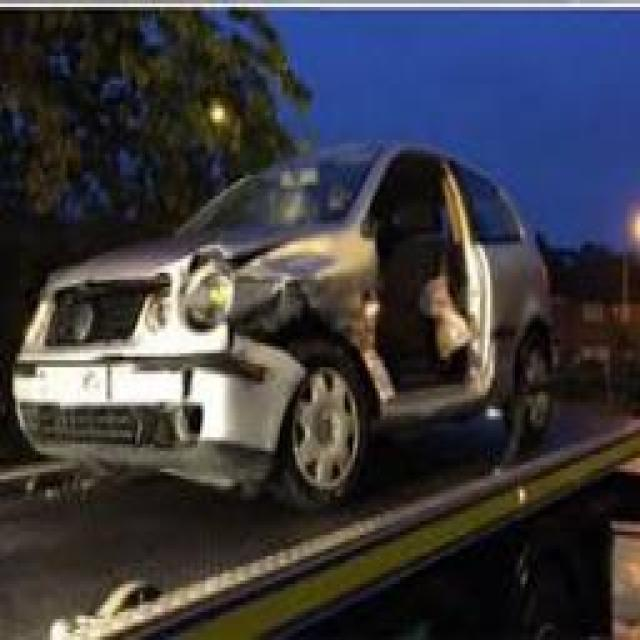Bonnet: (45, 224, 339, 299)
Bumper: (13, 334, 309, 486)
Door: (343, 152, 483, 409)
Fender: (224, 233, 377, 344)
